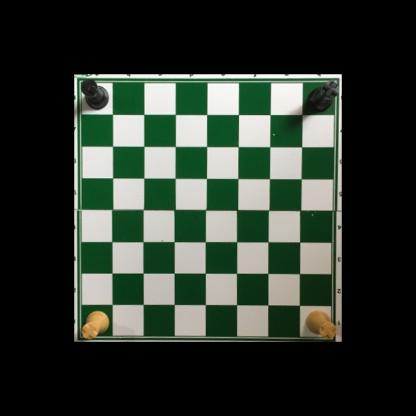black-rook: (306, 80, 340, 112), (80, 78, 110, 111)
white-rook: (81, 309, 112, 340), (305, 309, 336, 340)
